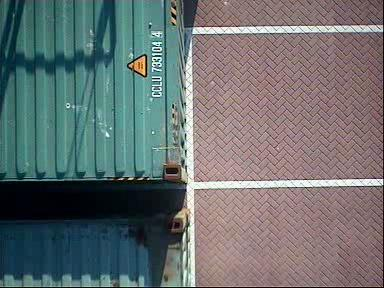groundmarker_2: (322, 36, 384, 74), (322, 99, 384, 137), (322, 232, 384, 270)
